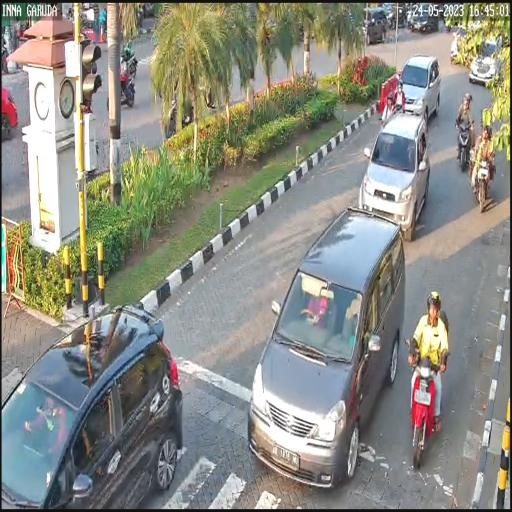mobil: (242, 202, 406, 494), (5, 295, 185, 511), (361, 106, 432, 242), (399, 55, 445, 119)
motor: (402, 330, 448, 472), (473, 152, 492, 216), (454, 114, 472, 171)
